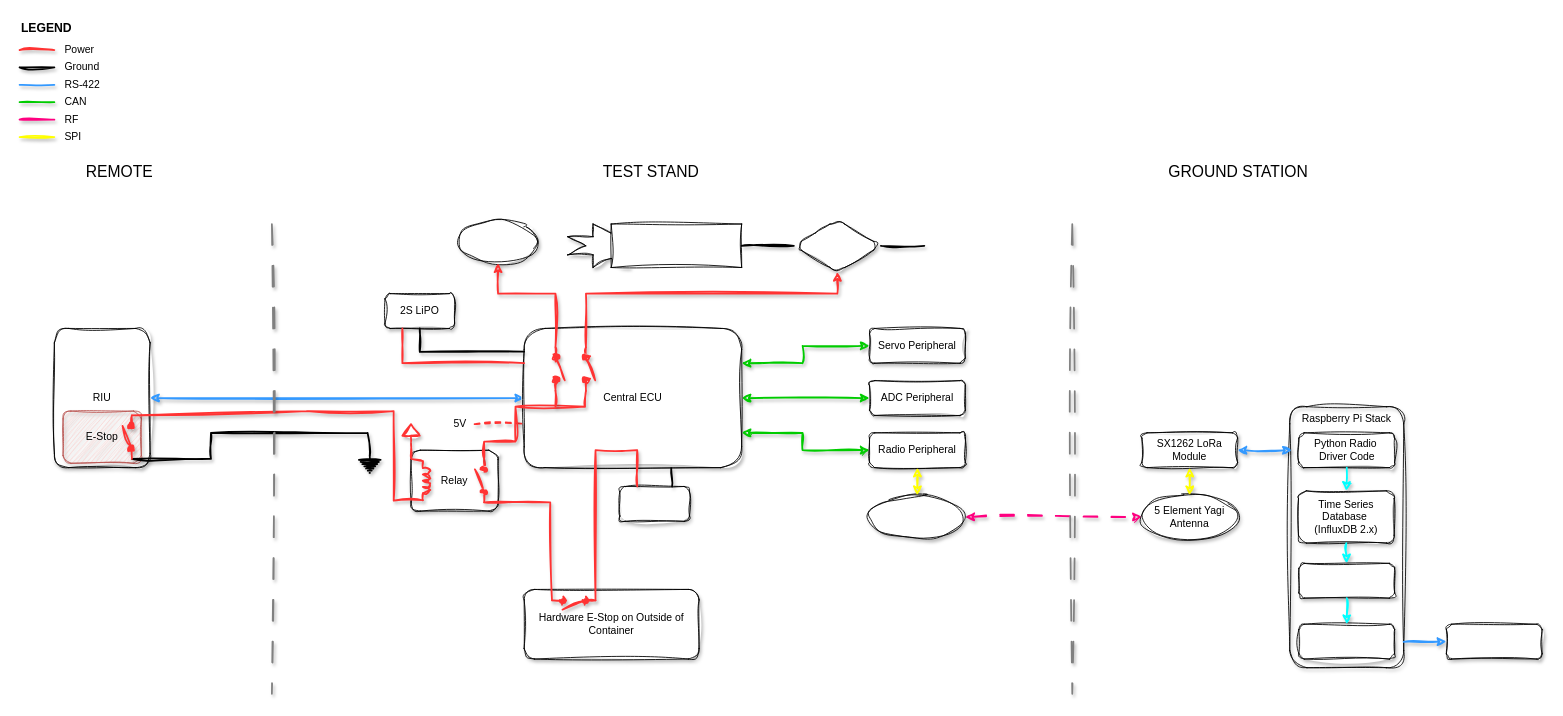
This 1563x716 diagram has some shape labels left out. Here are the shapes that lost their labels. From the top down, the centre of each, then its label:
[498,242]: Ignitors
[838,246]: NC Solenoid
[655,504]: 6S LiPO
[917,518]: Half Wave Dipole Antenna
[1347,581]: Live Dashboard (Grafana)
[1347,642]: WiFi Hotspot
[1494,642]: Operator Laptop
